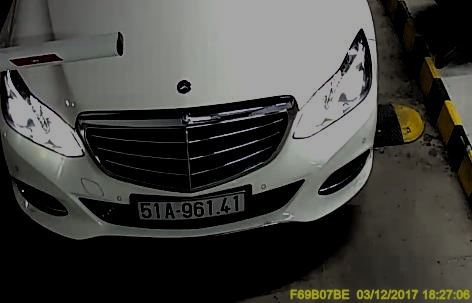plate: (134, 192, 247, 219)
